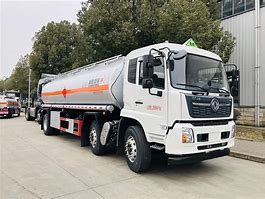oil truck: (37, 44, 239, 173)
